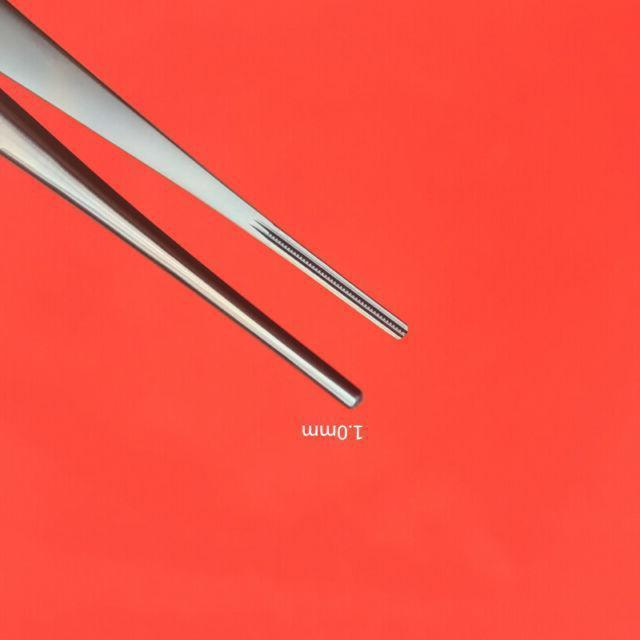Forceps: (0, 0, 413, 414)
